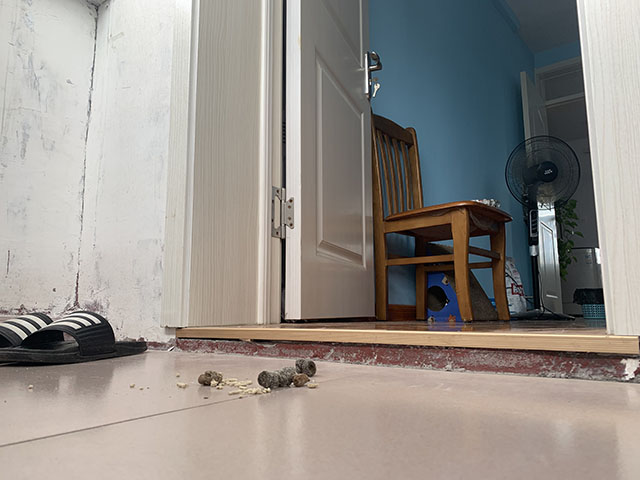feces: (256, 358, 318, 390), (198, 369, 224, 387)
slippers: (1, 309, 149, 367)
stool: (370, 106, 514, 324)
trashcan: (572, 287, 606, 320)
wire: (506, 272, 563, 321)
